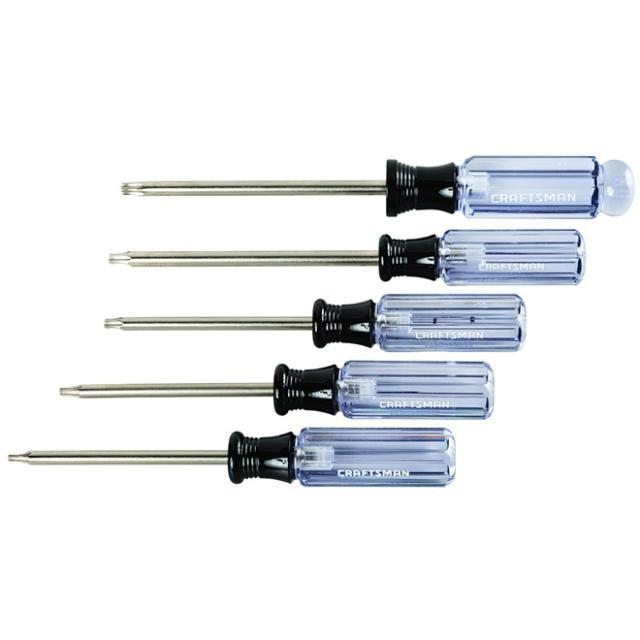screwdriver: (112, 152, 636, 222), (107, 225, 592, 293), (53, 357, 500, 427), (2, 424, 458, 491), (100, 292, 536, 356)
